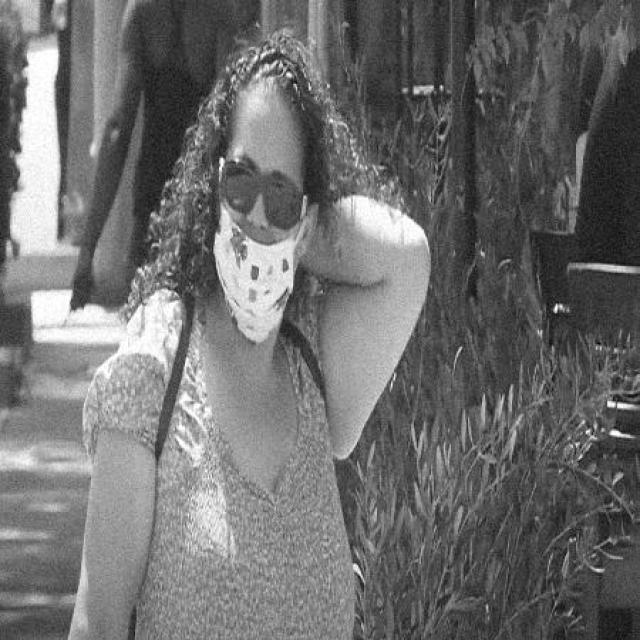hairnet: (217, 142, 294, 343)
